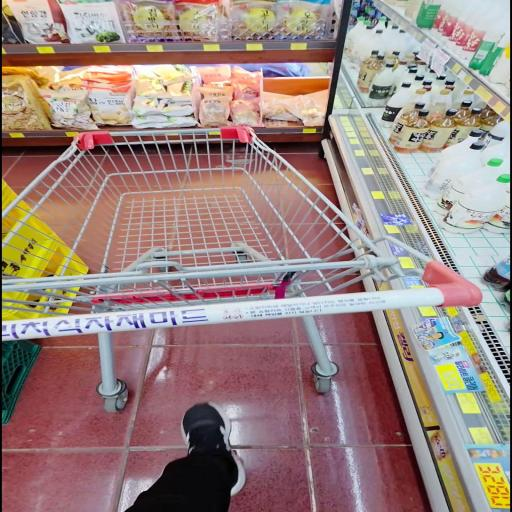empty_cart: (0, 126, 493, 412)
